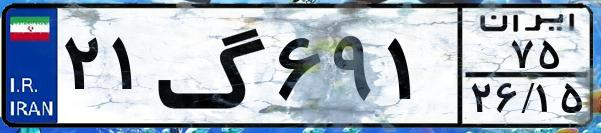1: (385, 28, 445, 110), (110, 28, 156, 98), (535, 70, 560, 125)
2: (57, 26, 110, 100), (470, 70, 495, 125)
5: (560, 70, 590, 125), (537, 27, 568, 80)
6: (270, 28, 330, 110), (495, 70, 520, 125)
7: (508, 27, 537, 80)
9: (330, 28, 385, 110)
گ: (156, 12, 270, 120)
